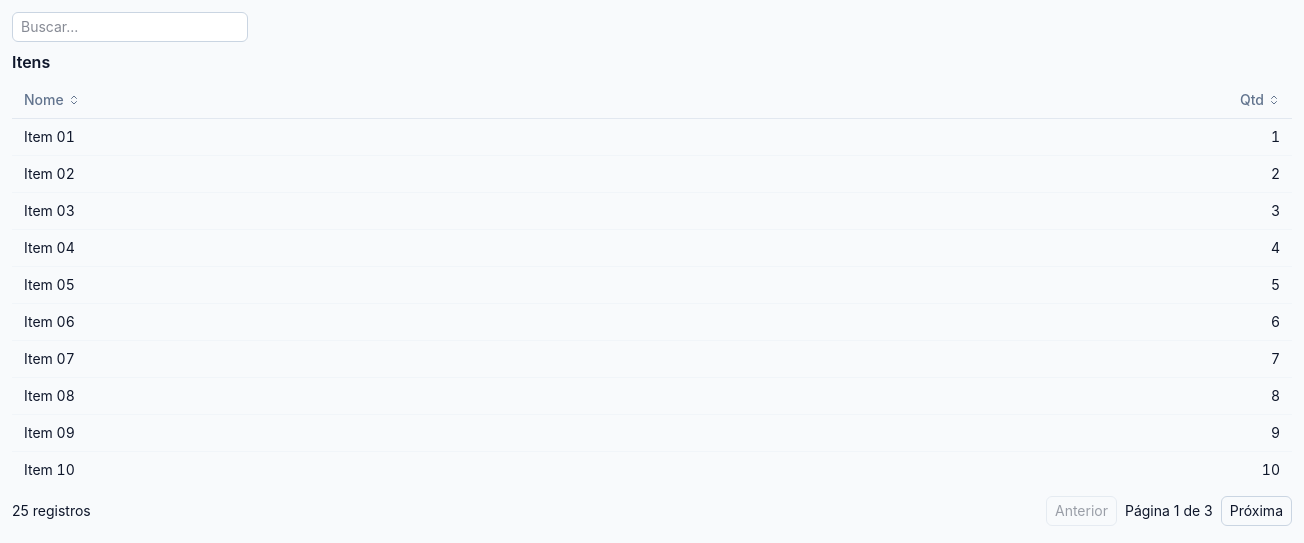
it: DataTable search › filters rows by text in sortable columns and goes back to the first page
Click the button "Próxima".
click(1256, 511)  # box [1221,496,1292,526]
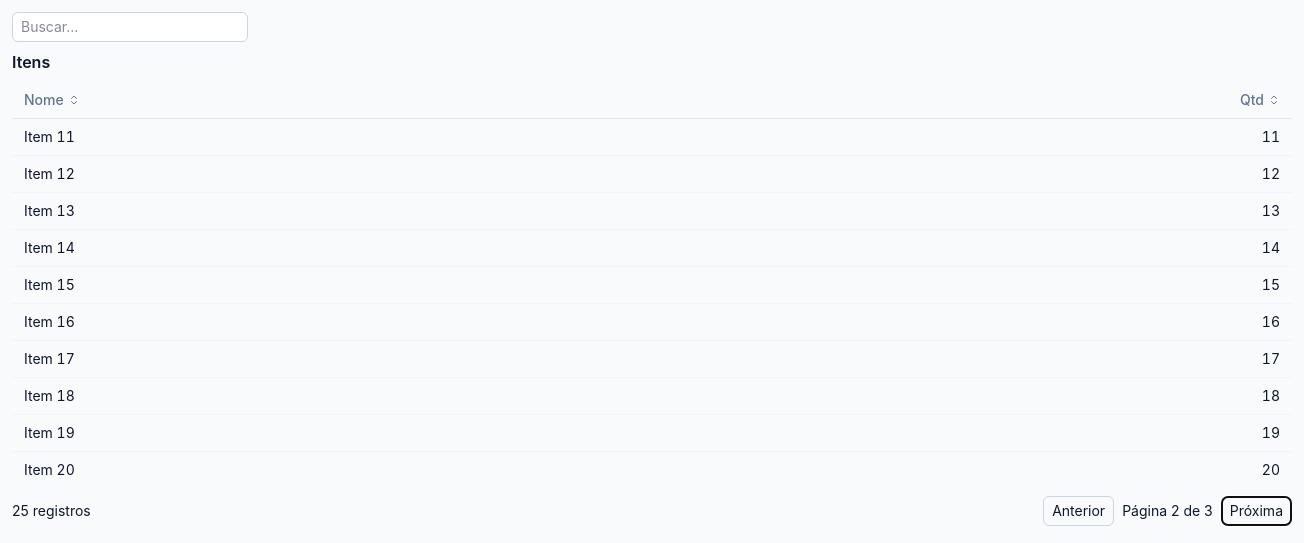
Type "Item 2" into the search field labelled "Buscar".
click(130, 27); type("Item 2")  # box [12,12,248,42]
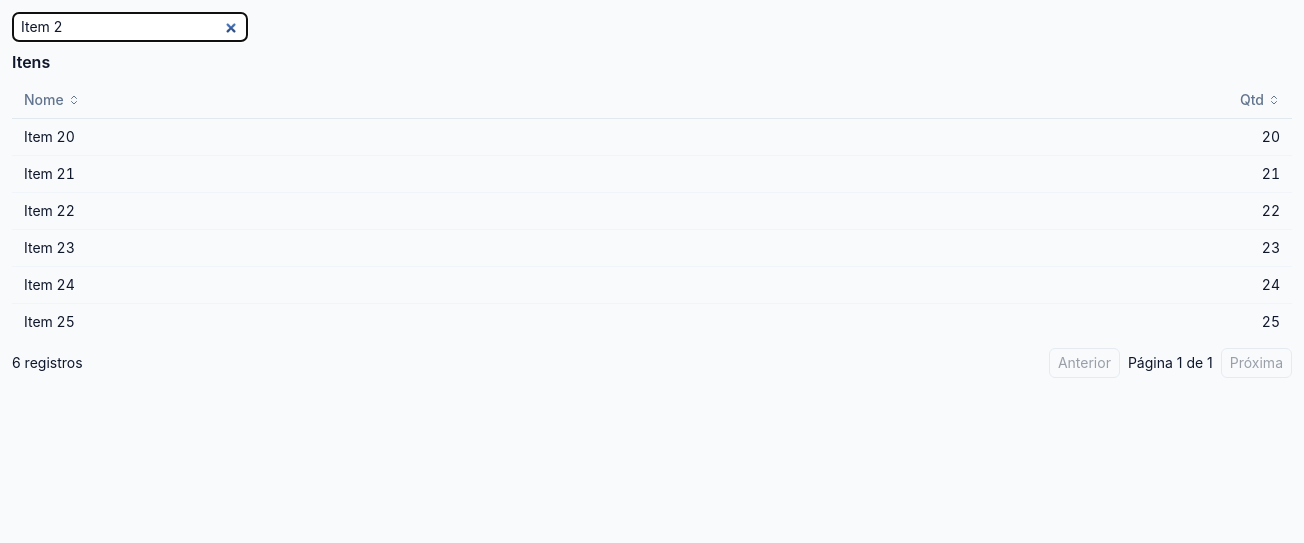
Expected: the text "Página 1 de 1" is shown, [1128,353,1213,373]
Expected: the text "6 registros" is shown, [12,353,83,373]
